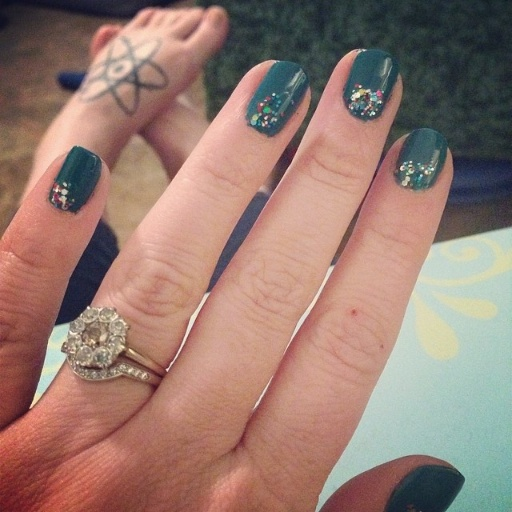hand: (0, 44, 467, 511)
